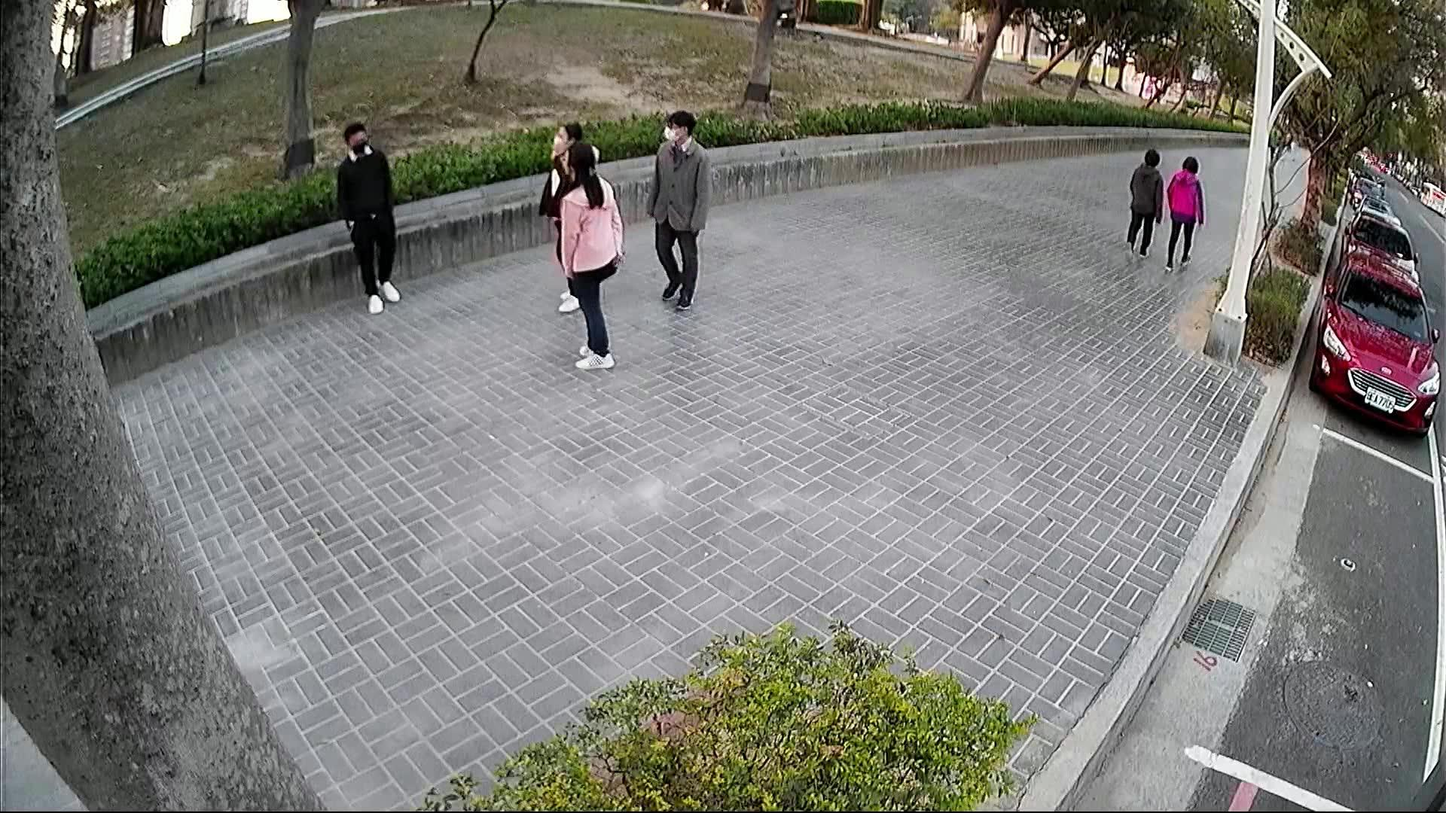person: (550, 138, 624, 370), (533, 113, 606, 315), (639, 108, 712, 310), (330, 117, 403, 315), (1156, 147, 1206, 276), (1117, 142, 1168, 260)
